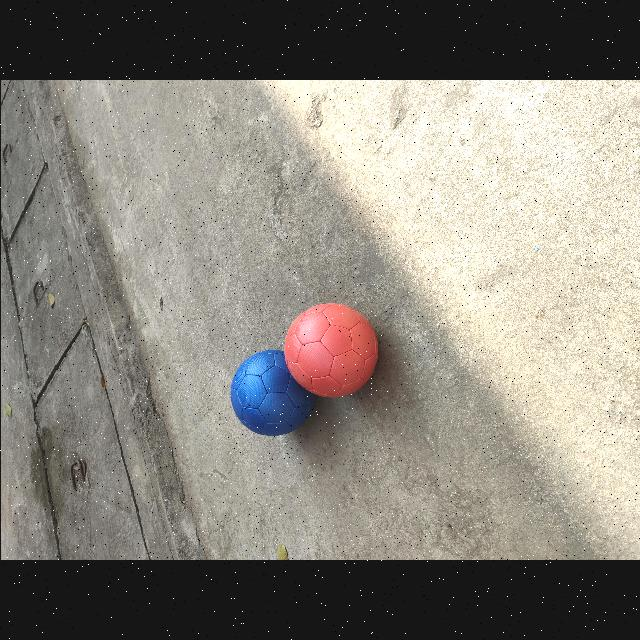B: (229, 349, 313, 436)
R: (284, 304, 378, 397)
